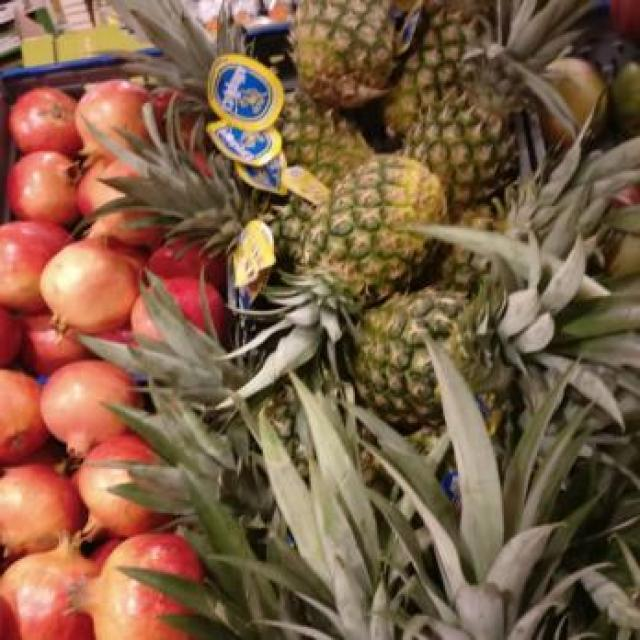pineapple: (356, 340, 594, 640), (240, 155, 446, 396), (356, 240, 609, 428), (405, 0, 590, 209), (292, 0, 422, 108), (114, 0, 245, 99), (386, 10, 465, 147), (279, 90, 371, 186)
